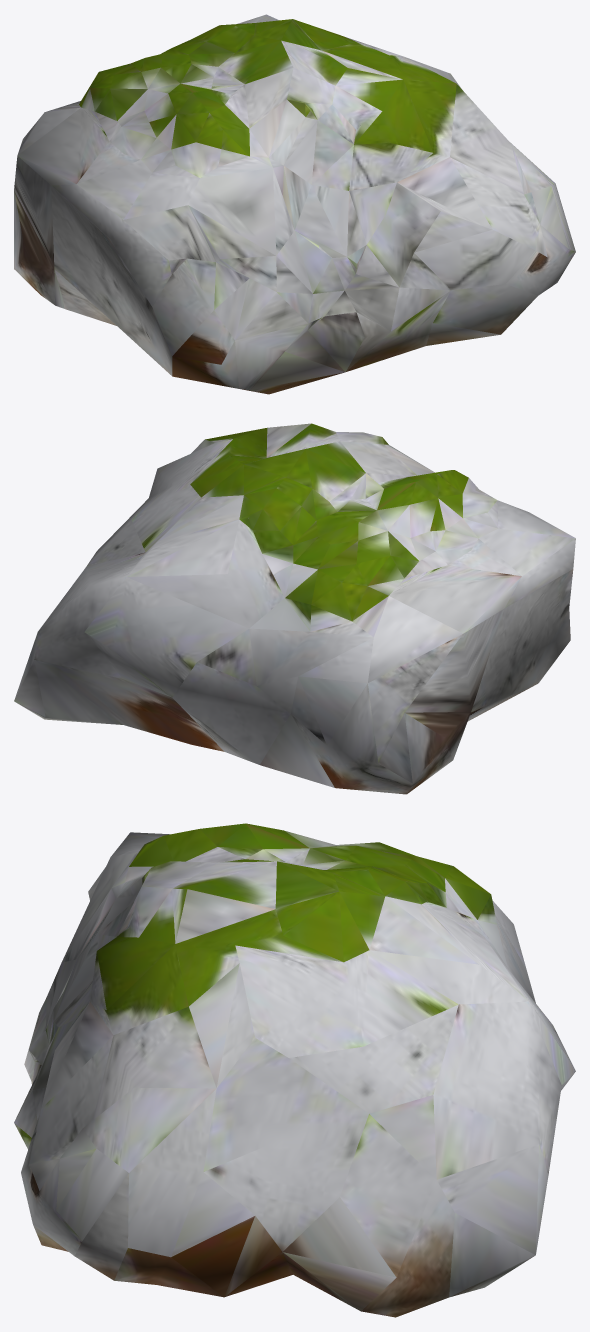
File: masso_lastra.glb
3 renders of one model, top to bottom at view 1: azimuth 30°, elevation 25°; view 2: azimuth 150°, elevation 25°; view 3: azimuth 270°, elevation 25°, orthographic. The views are drawn at different scales.
Visible parts, largest first — view 1: Mesh_0.008; view 2: Mesh_0.008; view 3: Mesh_0.008.
Part boxes in pixels (x1,y1,x2,y2): Mesh_0.008: (14, 14, 575, 394); Mesh_0.008: (14, 423, 575, 794); Mesh_0.008: (14, 823, 575, 1317).
Size of the model in its own units: 1.91 by 1.07 by 1.64.
Materials: 1 (1 with a texture image).
